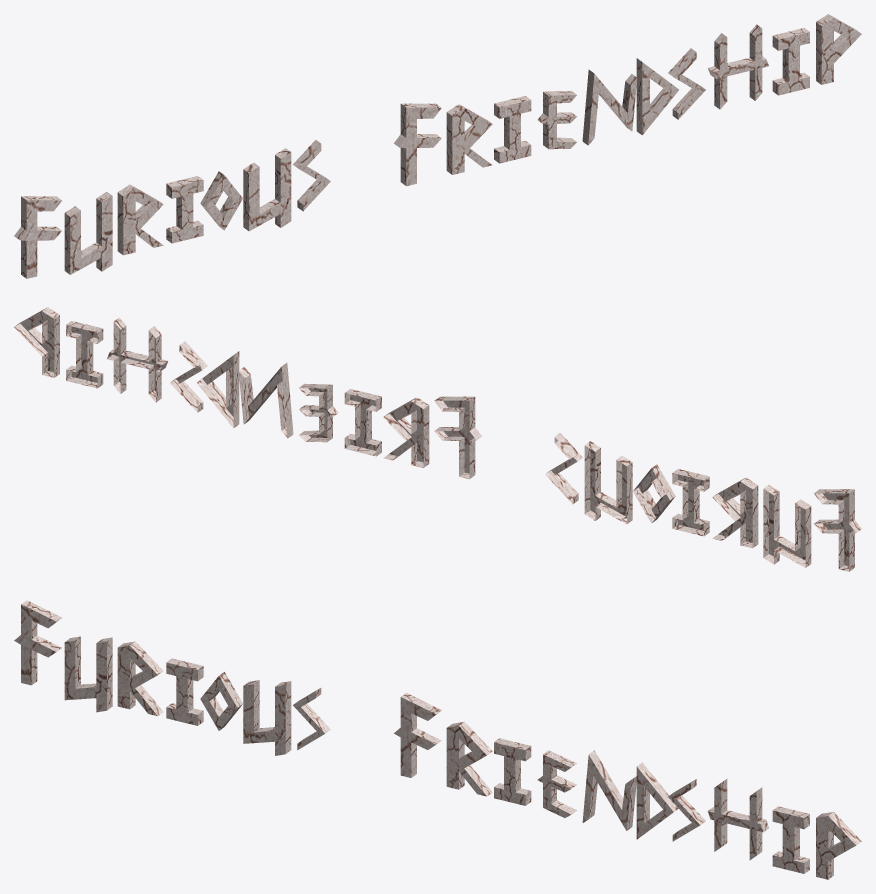
Rendered from Title.fbx.
3 renders of one model, top to bottom at view 1: azimuth 30°, elevation 25°; view 2: azimuth 150°, elevation 25°; view 3: azimuth 330°, elevation 25°, orthographic.
Visible parts, largest first — view 1: Font1; view 2: Font1; view 3: Font1.
Boxes of the visible parts, <box> form: Font1: <box>14,14,861,278</box>; Font1: <box>14,307,861,571</box>; Font1: <box>14,600,861,879</box>.
Bounding box in the file's own units: 7981 × 813 × 93.75.
